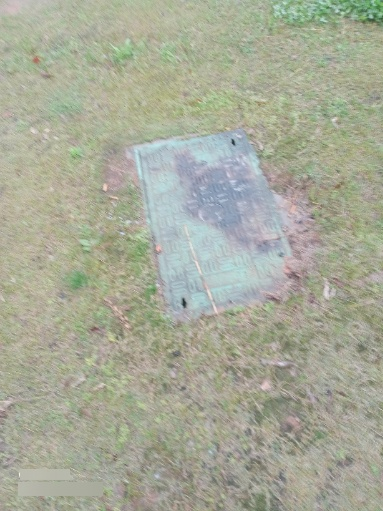good: (132, 127, 299, 321)
